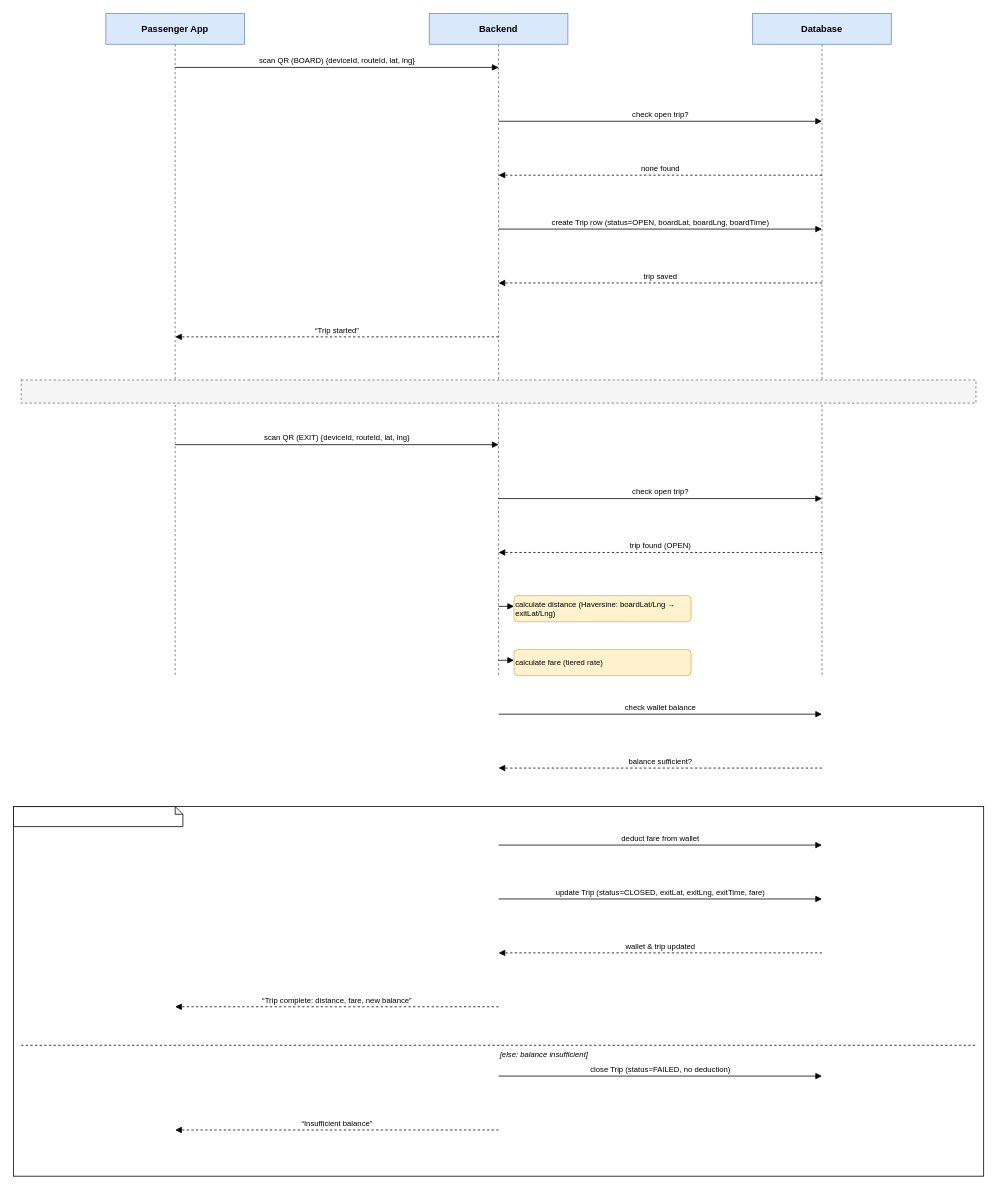
This 997x1190 diagram has some shape labels left out. The shapes that lost their labels are listed below. From the top down, each one's centre as x and y in pixels, then its label:
At (x=498, y=391): "passenger rides the bus; live map keeps updating in the background".
At (x=98, y=816): "alt [balance sufficient]".
